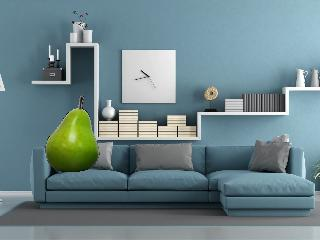pear: (41, 93, 103, 176)
